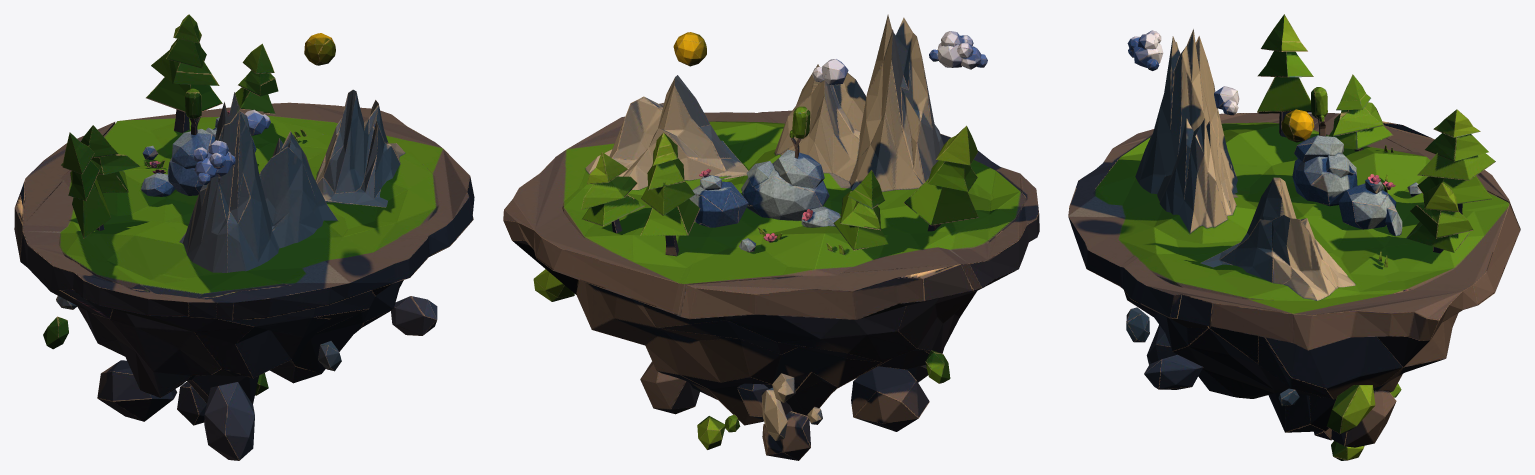
File: island2.obj
The picture shows the model from 3 angles, left to right: view 1: azimuth 30°, elevation 25°; view 2: azimuth 150°, elevation 25°; view 3: azimuth 270°, elevation 25°; orthographic projection. The views are drawn at different scales.
Visible parts, largest first — view 1: clloud; view 2: clloud; view 3: clloud.
Boxes of the visible parts, left/top/right/bottom form: clloud: left=14, top=14, right=474, bottom=460; clloud: left=503, top=14, right=1039, bottom=460; clloud: left=1068, top=14, right=1520, bottom=460.
Size of the model in its own units: 307 by 265 by 278.
1 material, 1 textured.
